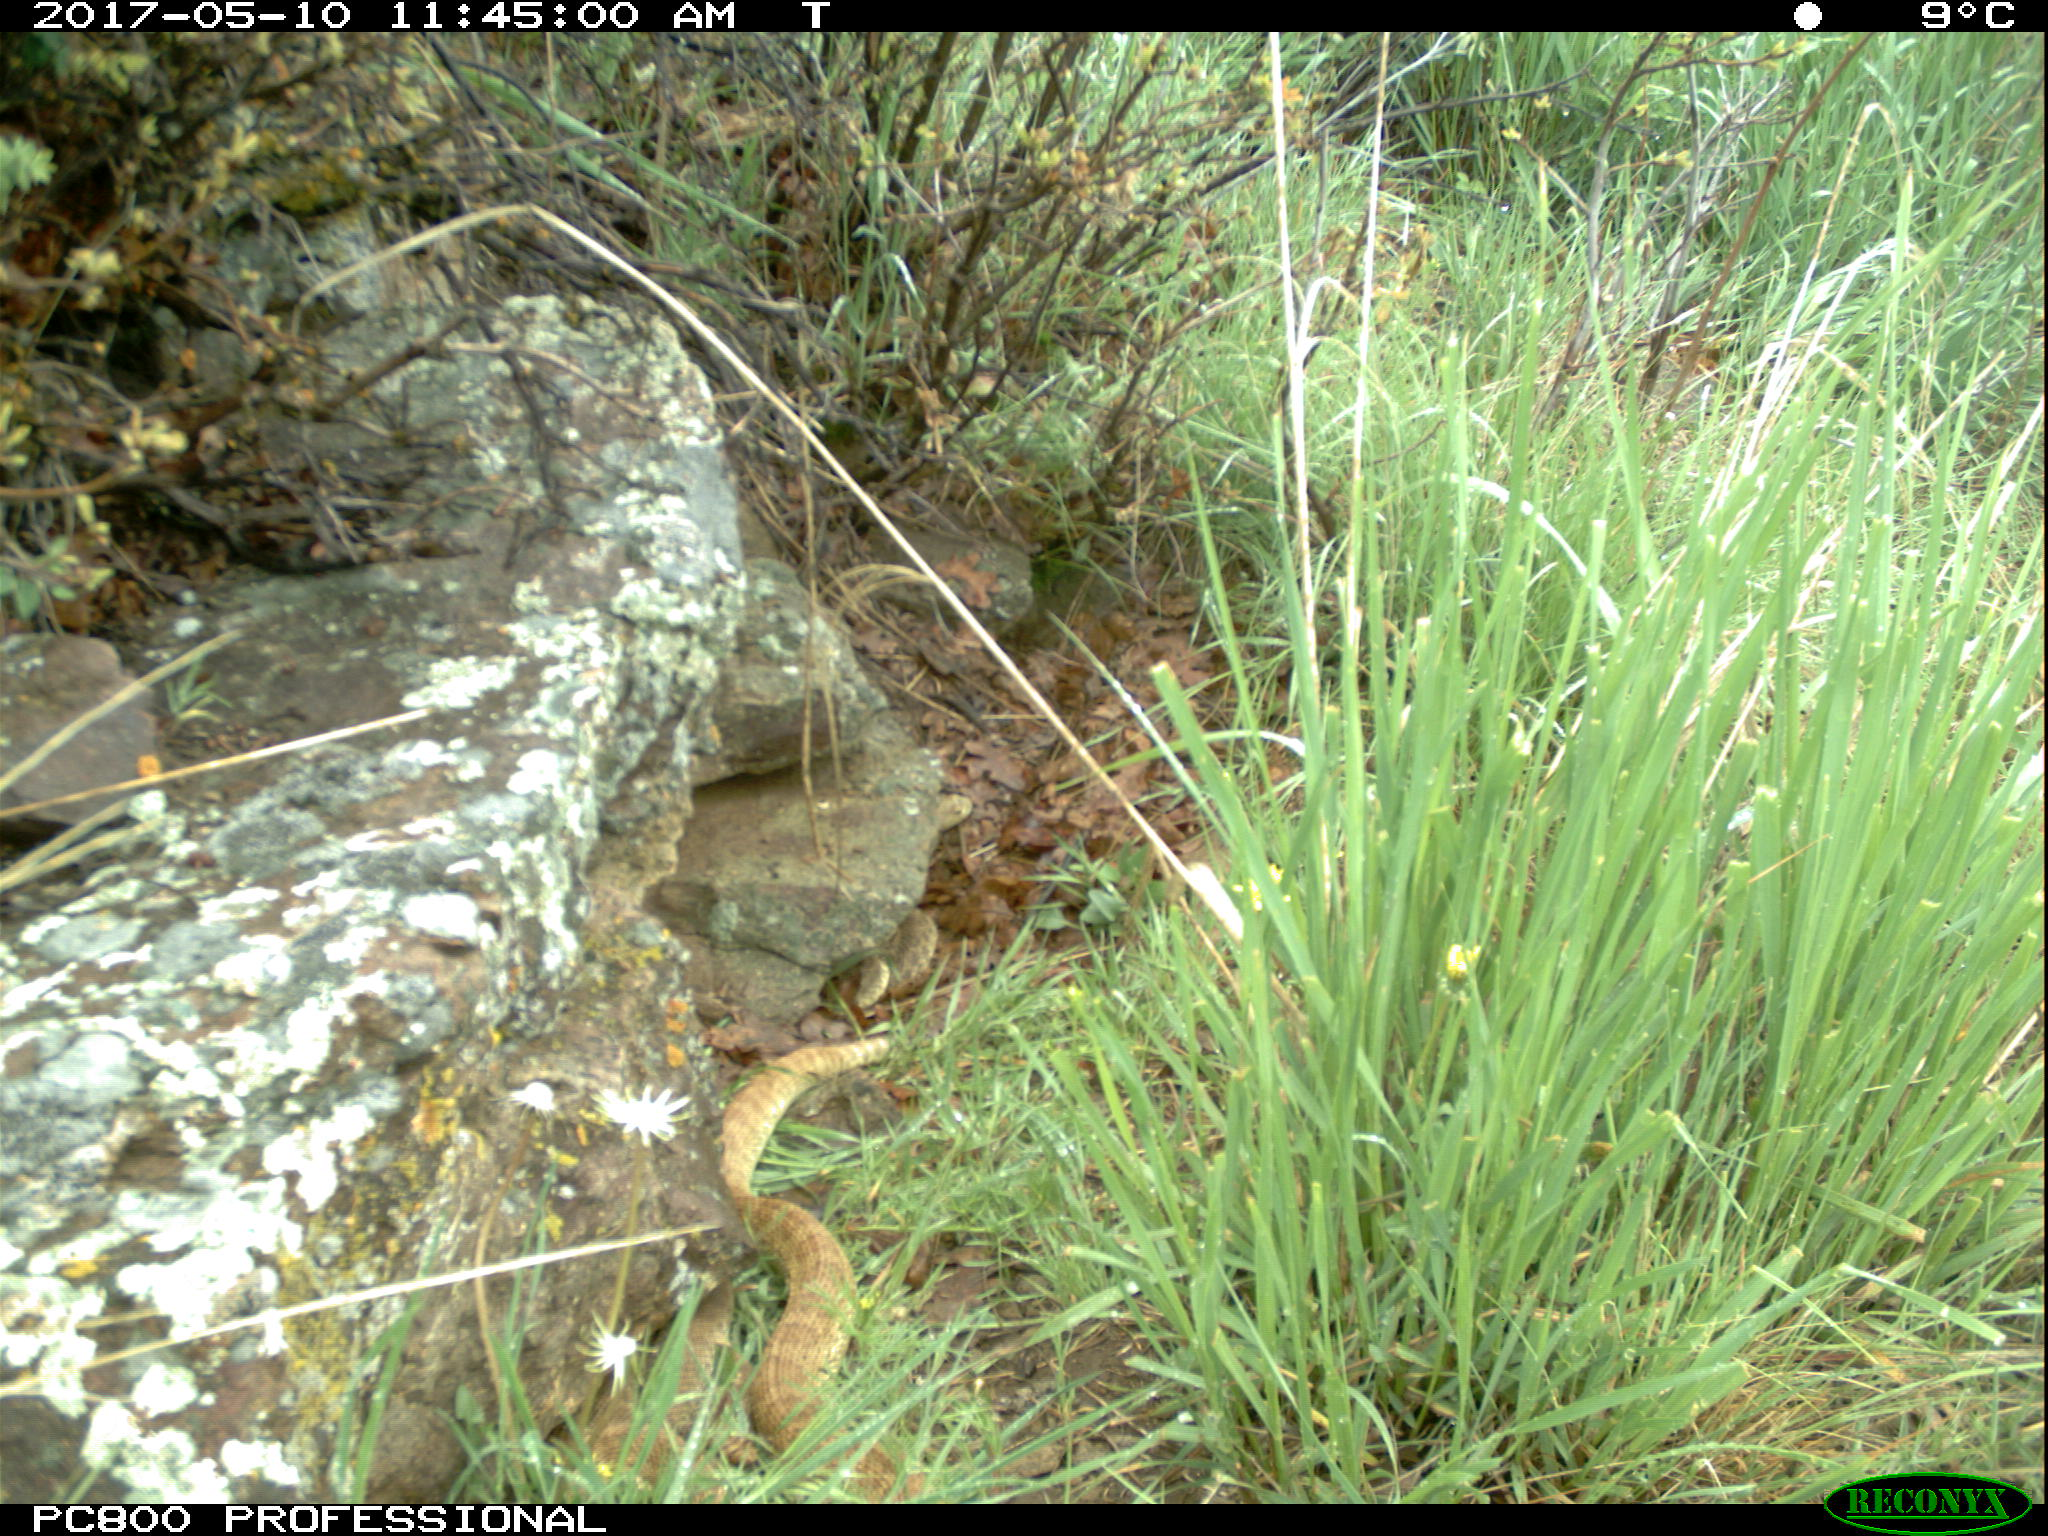snake: (711, 1033, 919, 1497), (581, 1296, 721, 1488), (845, 907, 942, 1004), (935, 791, 976, 833)
